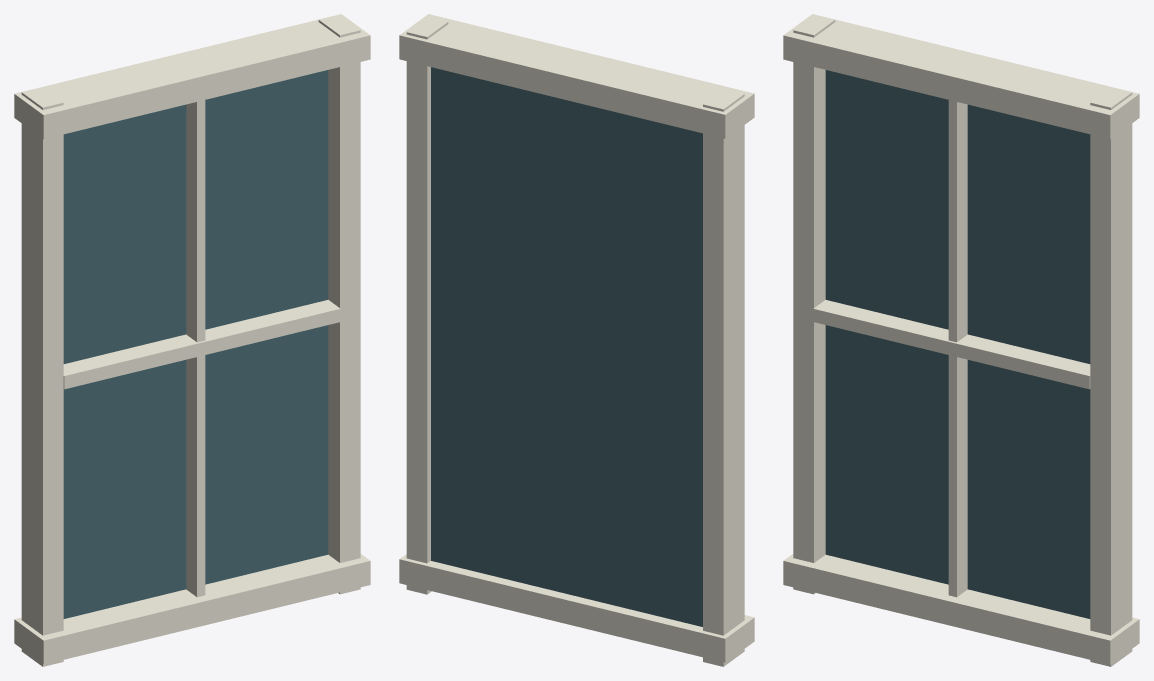
The picture shows the model from 3 angles, left to right: view 1: azimuth 30°, elevation 25°; view 2: azimuth 150°, elevation 25°; view 3: azimuth 330°, elevation 25°; orthographic projection.
Visible parts, largest first — view 1: QH-A0041_V01_geometry; view 2: QH-A0041_V01_geometry; view 3: QH-A0041_V01_geometry.
Part boxes in pixels (x1,y1,x2,y2): QH-A0041_V01_geometry: [14, 14, 370, 666]; QH-A0041_V01_geometry: [399, 14, 754, 666]; QH-A0041_V01_geometry: [783, 14, 1139, 666].
Size of the model in its own units: 1.42 by 2.32 by 0.22.
